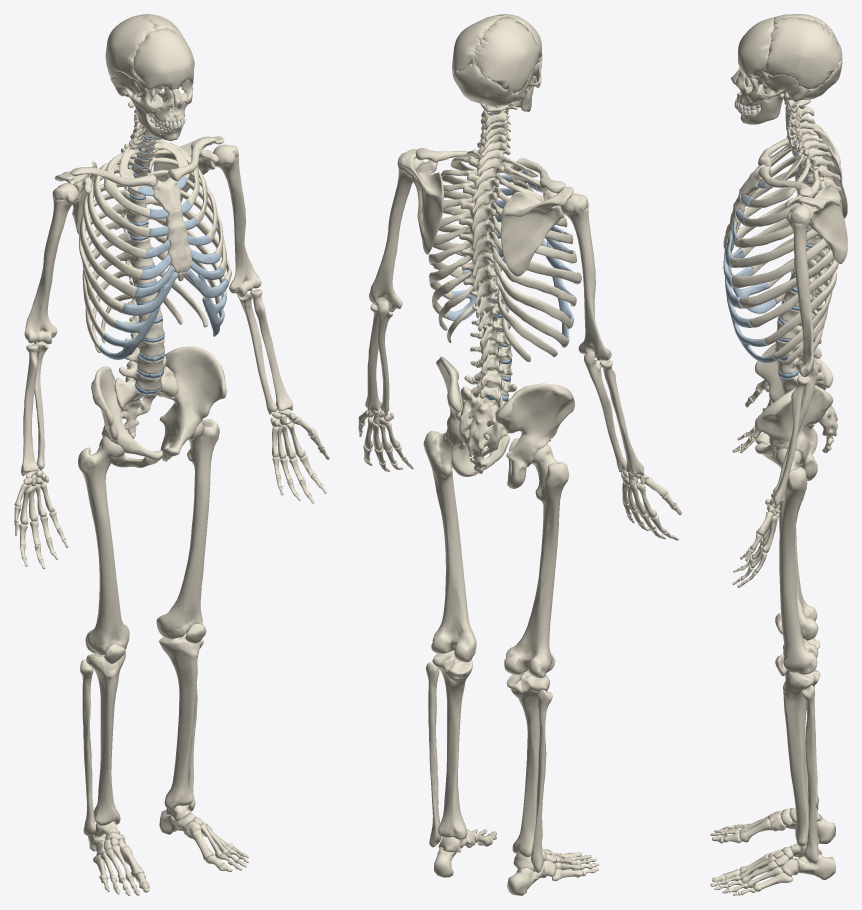
Rendered from skeleton.glb.
3 renders of one model, left to right at view 1: azimuth 30°, elevation 25°; view 2: azimuth 150°, elevation 25°; view 3: azimuth 270°, elevation 25°, orthographic. The views are drawn at different scales.
Parts seen in each view (by area): view 1: Legs, Skull, Hip_L, Humerus_R, Humerus_L, Hip_R, Hand_L, Hand_R, Sternum, Sacrum, Radius_R, Radius_L (+14 smaller); view 2: Legs, Skull, Hip_R, Scapula_R, Humerus_R, Sacrum, Humerus_L, Scapula_L, Hip_L, Hand_R, Hand_L, Ulna_R (+9 smaller); view 3: Legs, Skull, Hip_L, Humerus_L, Scapula_L, Hip_R, Hand_L, Radius_L, Rib_L7, Rib_L6, Rib_L8, Scapula_R (+16 smaller).
Part boxes in pixels (x1,y1,x2,y2): Legs: [78, 419, 249, 895]; Skull: [105, 14, 194, 141]; Hip_L: [159, 346, 226, 461]; Humerus_R: [24, 183, 78, 344]; Humerus_L: [212, 144, 261, 297]; Hip_R: [91, 366, 162, 467]; Hand_L: [270, 410, 329, 503]; Hand_R: [14, 470, 68, 569]; Sternum: [152, 177, 191, 281]; Sacrum: [114, 366, 178, 438]; Radius_R: [21, 344, 38, 476]; Radius_L: [250, 289, 292, 410]; Legs: [423, 430, 599, 895]; Skull: [452, 14, 542, 111]; Hip_R: [495, 383, 574, 488]; Scapula_R: [501, 186, 573, 276]; Humerus_R: [561, 193, 611, 360]; Sacrum: [459, 386, 507, 473]; Humerus_L: [369, 152, 423, 311]; Scapula_L: [400, 149, 443, 254]; Hip_L: [436, 356, 509, 476]; Hand_R: [621, 469, 681, 540]; Hand_L: [358, 408, 413, 471]; Ulna_R: [584, 350, 626, 472]; Legs: [710, 448, 835, 895]; Skull: [730, 14, 842, 124]; Hip_L: [755, 385, 833, 480]; Humerus_L: [786, 205, 814, 376]; Scapula_L: [785, 183, 847, 263]; Hip_R: [755, 343, 833, 453]; Hand_L: [732, 498, 780, 587]; Radius_L: [771, 376, 808, 506]; Rib_L7: [739, 249, 834, 308]; Rib_L6: [731, 238, 827, 288]; Rib_L8: [749, 234, 838, 327]; Scapula_R: [806, 122, 847, 218].
Bounding box in the file's own units: 0.648 × 1.64 × 0.2422.
